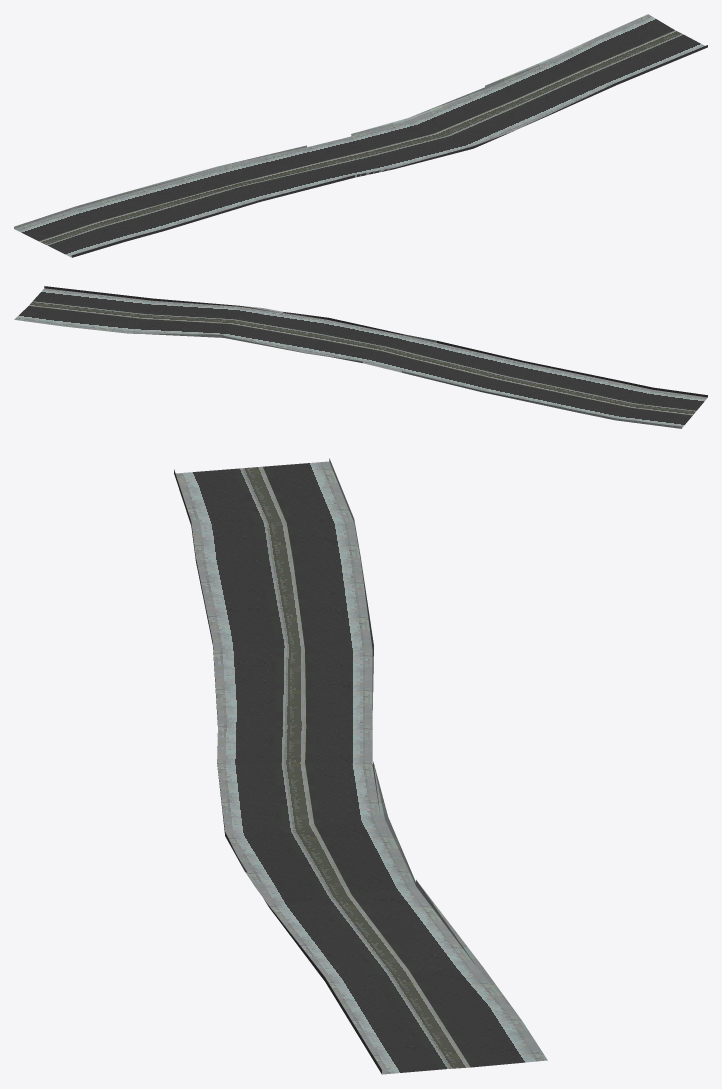
The model's file is lodroads_law16.obj.
3 views of the same model, one above another, from view 1: azimuth 30°, elevation 25°; view 2: azimuth 150°, elevation 25°; view 3: azimuth 270°, elevation 25° (orthographic). The views are drawn at different scales.
Visible parts, largest first — view 1: LODroads_law16; view 2: LODroads_law16; view 3: LODroads_law16.
Part boxes in pixels (box(x1,y1,x2,y2)): LODroads_law16: box(14, 14, 707, 257); LODroads_law16: box(14, 286, 707, 428); LODroads_law16: box(174, 458, 547, 1074).
Bounding box in the file's own units: 320 × 3.18 × 83.04.
1 material, 1 textured.
